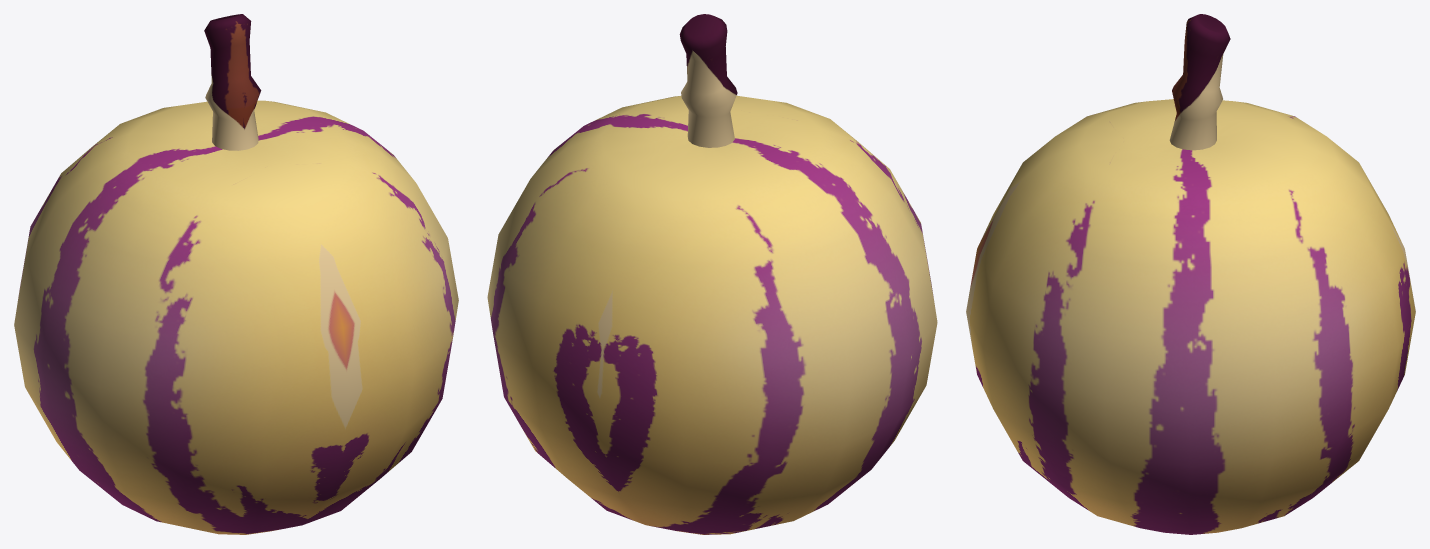
Rendered from Star_Apple_02.fbx.
3 views of the same model, side by side, from view 1: azimuth 30°, elevation 25°; view 2: azimuth 150°, elevation 25°; view 3: azimuth 270°, elevation 25° (orthographic).
Visible parts, largest first — view 1: Star_Apple_02; view 2: Star_Apple_02; view 3: Star_Apple_02.
Part boxes in pixels (x1,y1,x2,y2): Star_Apple_02: [14, 14, 458, 534]; Star_Apple_02: [487, 14, 937, 534]; Star_Apple_02: [966, 14, 1415, 534].
Bounding box in the file's own units: 33.74 × 41.25 × 33.74.
